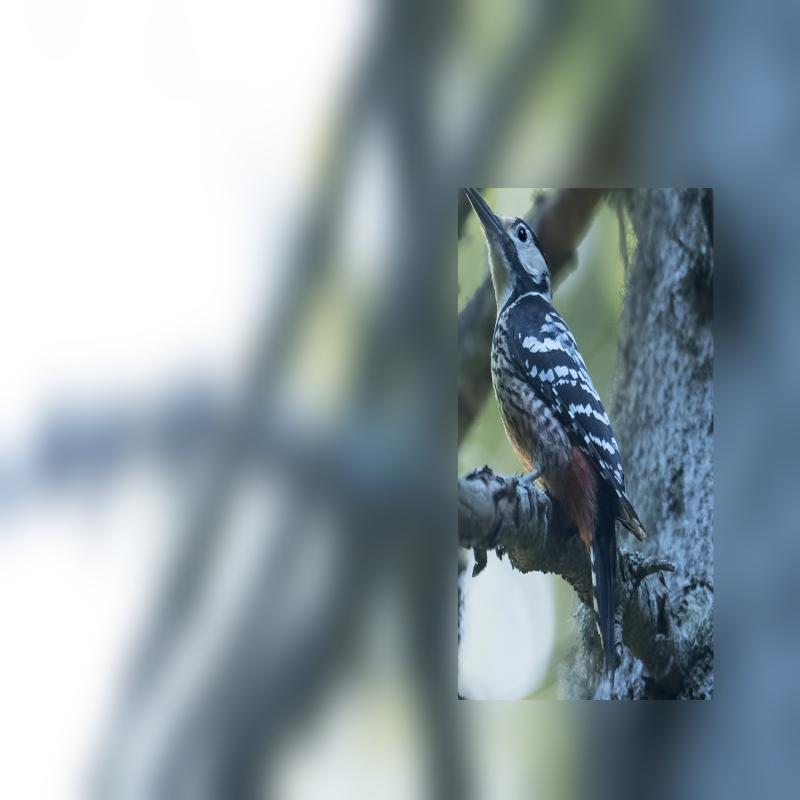white-backed woodpecker: (458, 191, 654, 659)
